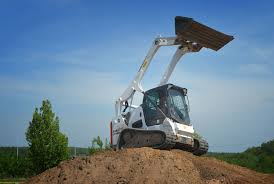excavator: (109, 14, 237, 155)
